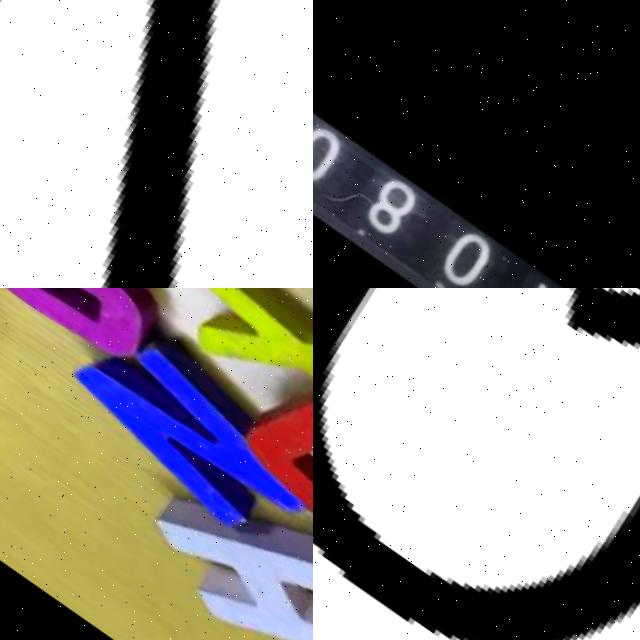0: (425, 220, 496, 288), (313, 114, 346, 190)
7: (493, 270, 568, 288)
8: (352, 167, 423, 242)
H: (113, 454, 313, 640)
O: (216, 334, 313, 611)
Q: (313, 288, 640, 640)
V: (0, 0, 313, 288)
